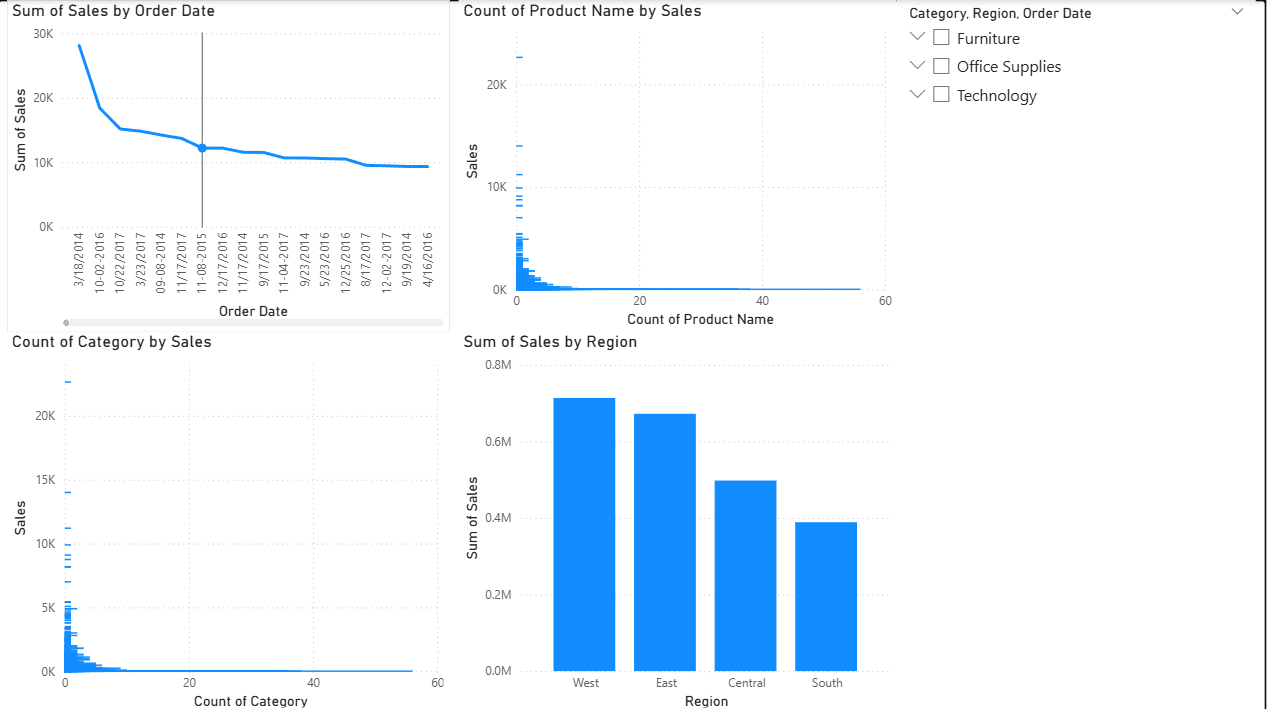

Layout of this report page (visuals, bound fields, positions):
{"tool":"powerbi","page":{"name":"Page 1","canvas":[1280,720],"ordinal":0},"visuals":[{"type":"lineChart","fields":{"Category":["project superstore.Order Date"],"Y":["Sum(project superstore.Sales)"]},"box":[9.4,0,446,334.5],"z":0},{"type":"clusteredBarChart","fields":{"Category":["project superstore.Sales"],"Y":["CountNonNull(project superstore.Category)"]},"box":[9.4,334.5,446,385.5],"z":1},{"type":"columnChart","fields":{"Category":["project superstore.Sales"],"Y":["CountNonNull(project superstore.Product Name)"]},"box":[464.9,0,521.6,334.5],"z":2},{"type":"columnChart","fields":{"Y":["Sum(project superstore.Sales)"],"Category":["project superstore.Region"]},"box":[464.9,334.5,442.2,385.5],"z":3},{"type":"slicer","fields":{"Values":["project superstore.Category","project superstore.Region","project superstore.Order Date"]},"box":[907.1,0,362.8,136.1],"z":4}]}

Visuals, with their boxes in screenshot pixels (x1, y1, x2, y2), scaled from the page's 1280x720 canvas onto the 1267x709 screenshot:
lineChart - project superstore.Order Date x Sum(project superstore.Sales): (9,0,451,329)
clusteredBarChart - project superstore.Sales x CountNonNull(project superstore.Category): (9,329,451,708)
columnChart - project superstore.Sales x CountNonNull(project superstore.Product Name): (460,0,976,329)
columnChart - Sum(project superstore.Sales) x project superstore.Region: (460,329,898,708)
slicer - project superstore.Category x project superstore.Region: (898,0,1257,134)
